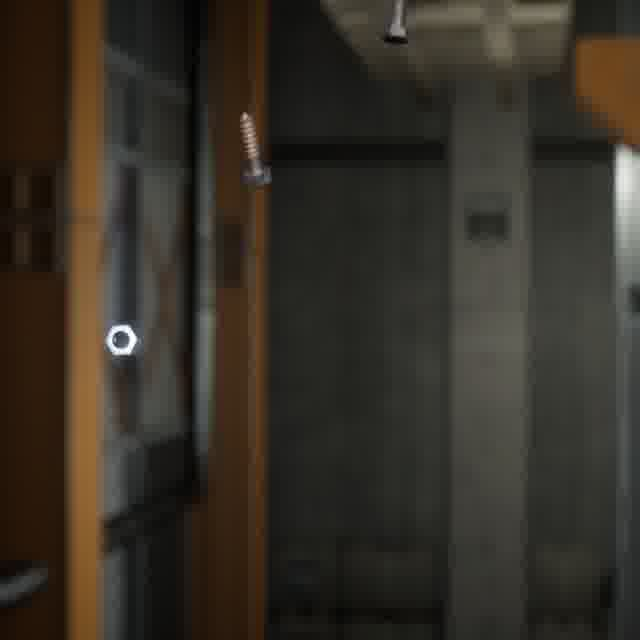bolt: (234, 107, 276, 191), (375, 0, 414, 49)
nut: (100, 319, 145, 360)
